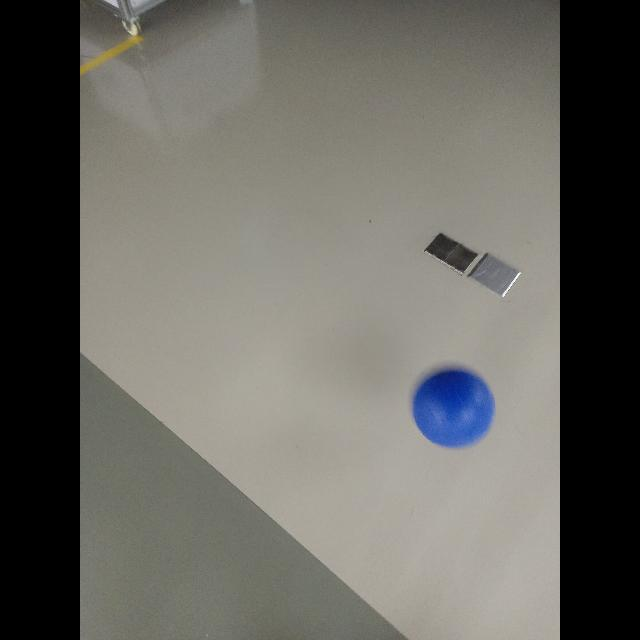B: (413, 370, 495, 448)
